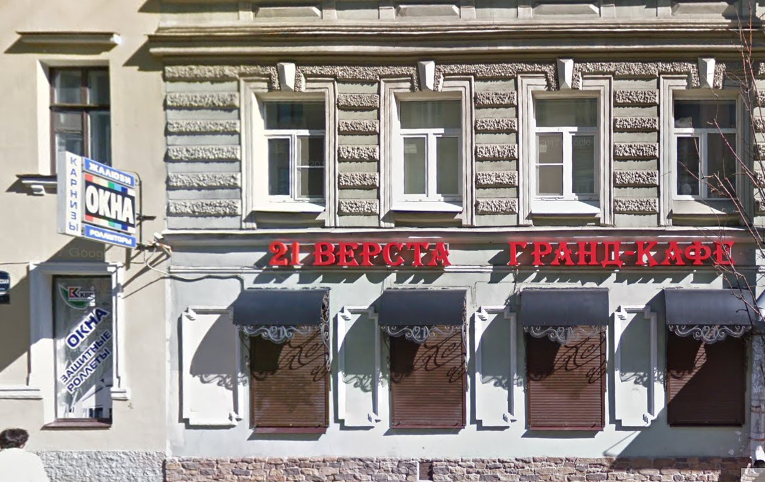cantilever: (50, 145, 161, 264)
signboard: (262, 237, 748, 271)
window: (50, 276, 113, 422), (664, 326, 749, 424), (528, 326, 606, 431), (530, 93, 603, 205), (395, 90, 465, 203), (389, 326, 463, 429), (259, 91, 325, 206), (256, 325, 322, 431), (674, 97, 739, 203), (51, 67, 107, 177)
